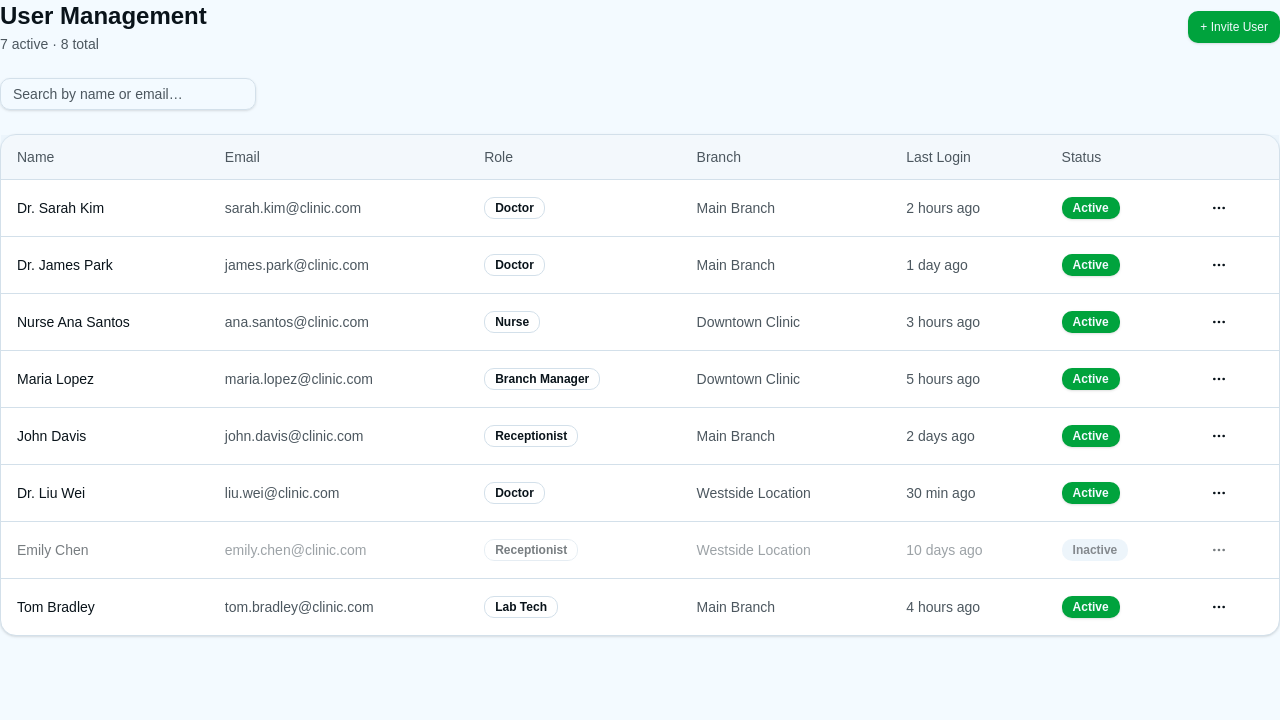
Test case: UserManagementPage (CC-88) › Opens invite sheet when Invite User clicked
The width and height of the screenshot is (1280, 720).
Click the button "+ Invite User".
click(1234, 27)  # box x1=1188 y1=11 x2=1279 y2=43
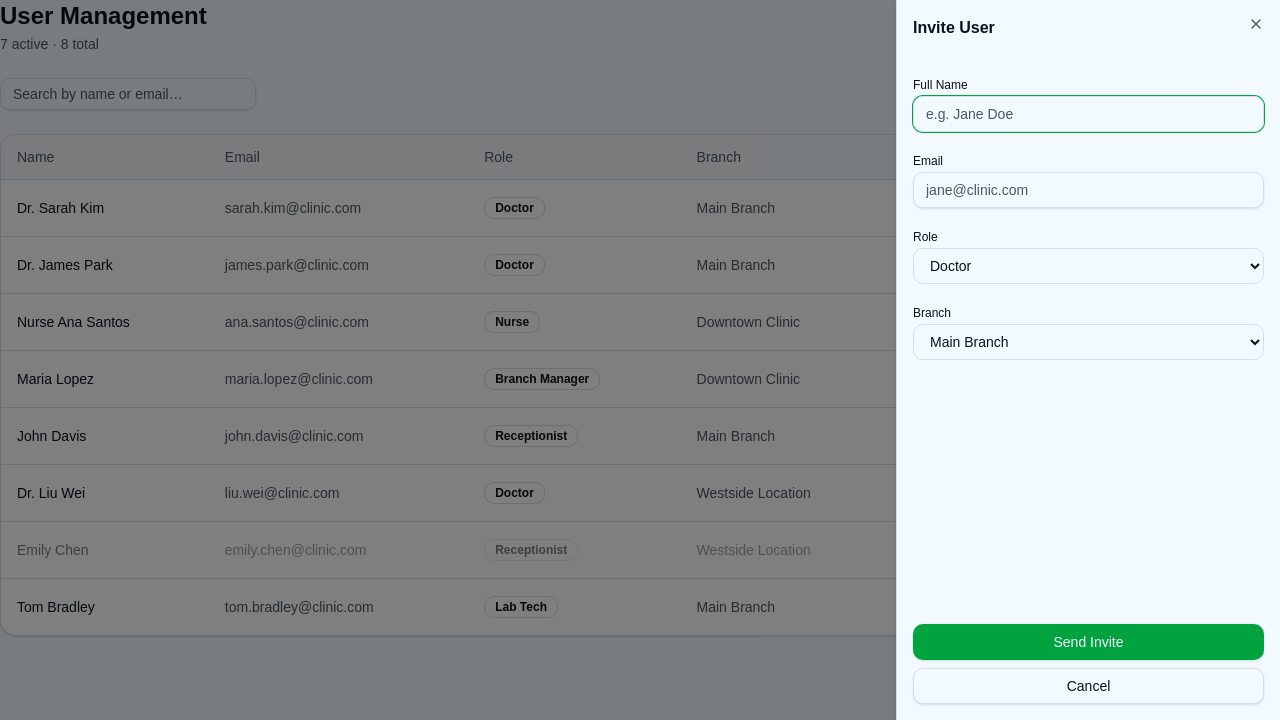
Check: the dialog is shown, box x1=896 y1=0 x2=1279 y2=719
